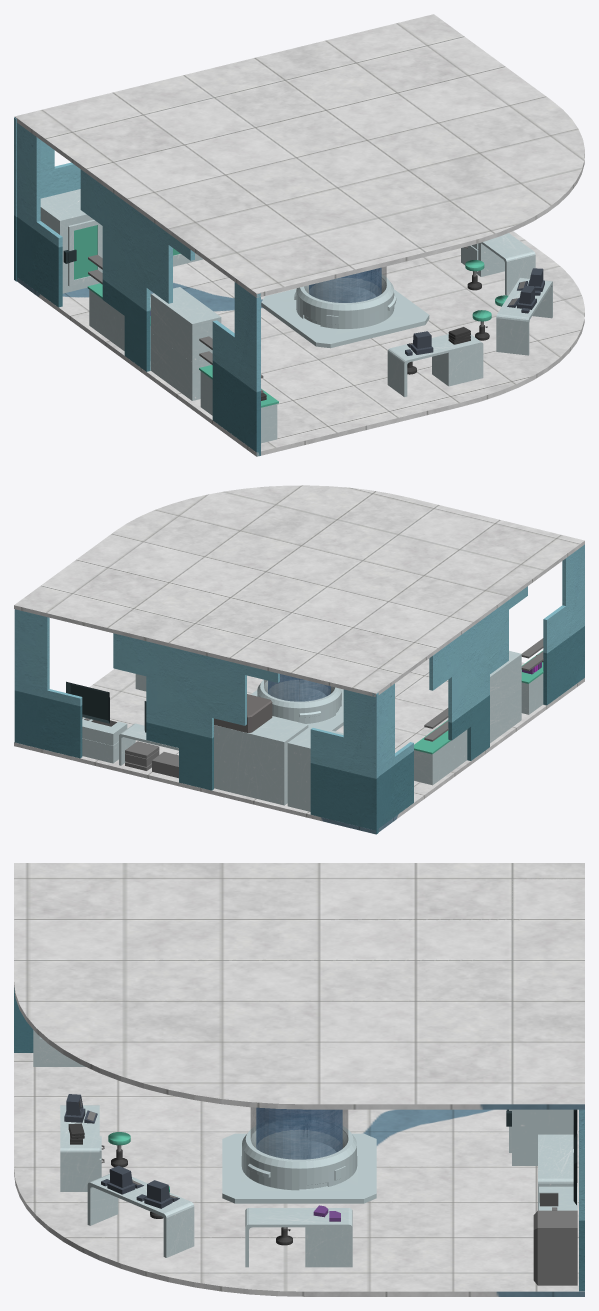
The model's file is cubicle_lab.glb.
3 renders of one model, top to bottom at view 1: azimuth 30°, elevation 25°; view 2: azimuth 150°, elevation 25°; view 3: azimuth 270°, elevation 25°, orthographic. The views are drawn at different scales.
Visible parts, largest first — view 1: Cube.017, Plane.010, Cylinder.008, Cylinder.010; view 2: Cube.017, Plane.010, Cylinder.008, Cylinder.010; view 3: Cube.017, Plane.010, Cylinder.008, Cylinder.010.
Part boxes in pixels (x1,y1,x2,y2): Cube.017: [14, 14, 584, 456]; Plane.010: [150, 260, 544, 400]; Cylinder.008: [304, 266, 386, 302]; Cylinder.010: [309, 268, 381, 302]; Cube.017: [14, 485, 584, 834]; Plane.010: [250, 655, 543, 731]; Cylinder.008: [264, 674, 334, 701]; Cylinder.010: [268, 674, 330, 701]; Cube.017: [14, 863, 584, 1296]; Plane.010: [64, 1094, 376, 1245]; Cylinder.008: [250, 1107, 348, 1159]; Cylinder.010: [256, 1107, 342, 1159].
Bounding box in the file's own units: 10.01 × 3.72 × 10.
Materials: 68 (51 with a texture image).
